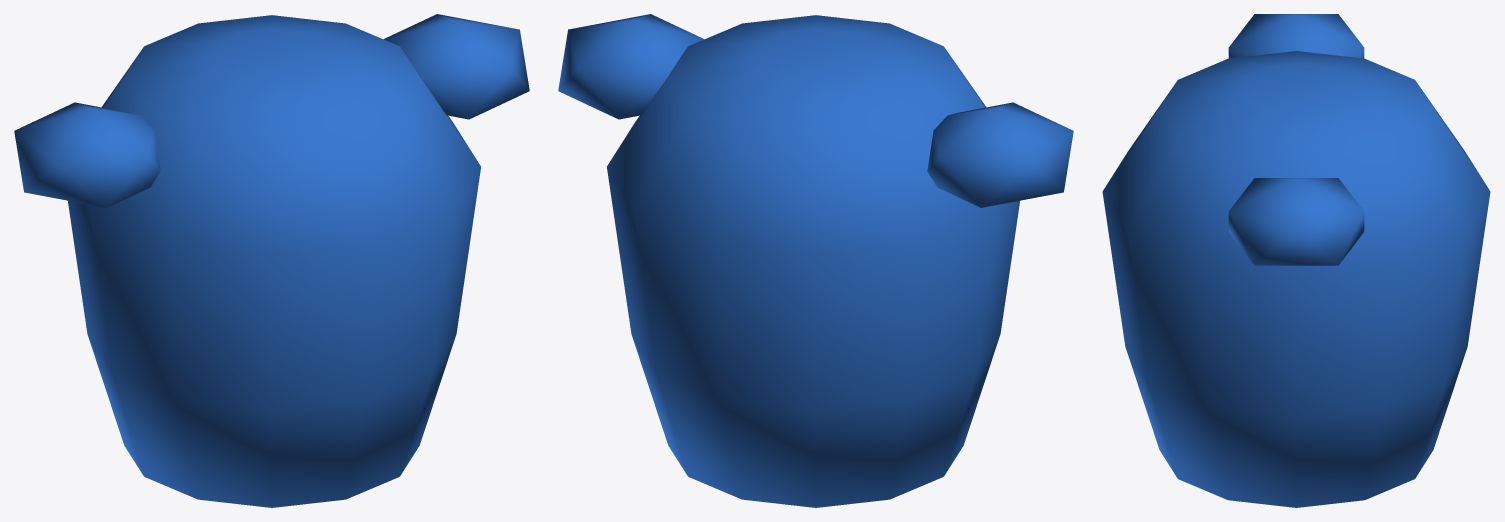
File: cerulite_chainmail.glb
3 renders of one model, left to right at view 1: azimuth 30°, elevation 25°; view 2: azimuth 150°, elevation 25°; view 3: azimuth 270°, elevation 25°, orthographic. The views are drawn at different scales.
Parts seen in each view (by area): view 1: cerulite_chainmail_v0; view 2: cerulite_chainmail_v0; view 3: cerulite_chainmail_v0.
Boxes of the visible parts, x1,y1,x2,y2 form: cerulite_chainmail_v0: (14, 14, 529, 507); cerulite_chainmail_v0: (558, 14, 1073, 507); cerulite_chainmail_v0: (1102, 14, 1490, 507).
Size of the model in its own units: 0.4652 by 0.35 by 0.34.
